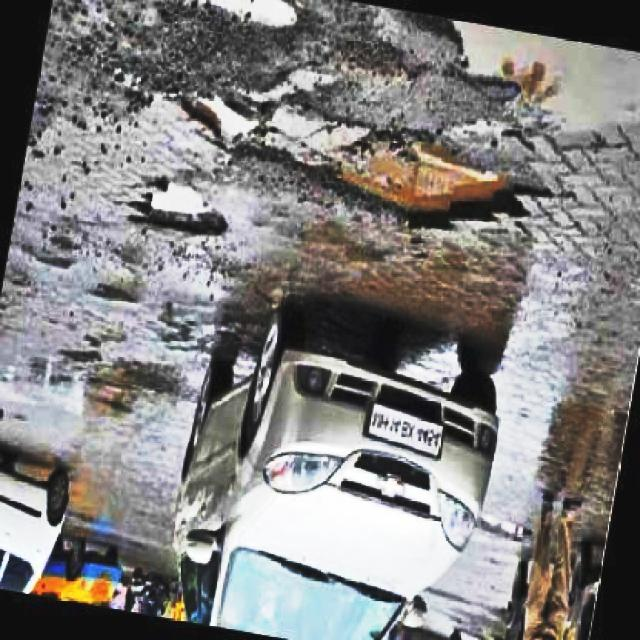pothole: (417, 8, 640, 135), (316, 116, 536, 230), (130, 174, 228, 246), (177, 83, 268, 148), (83, 365, 159, 409), (203, 0, 303, 28)
